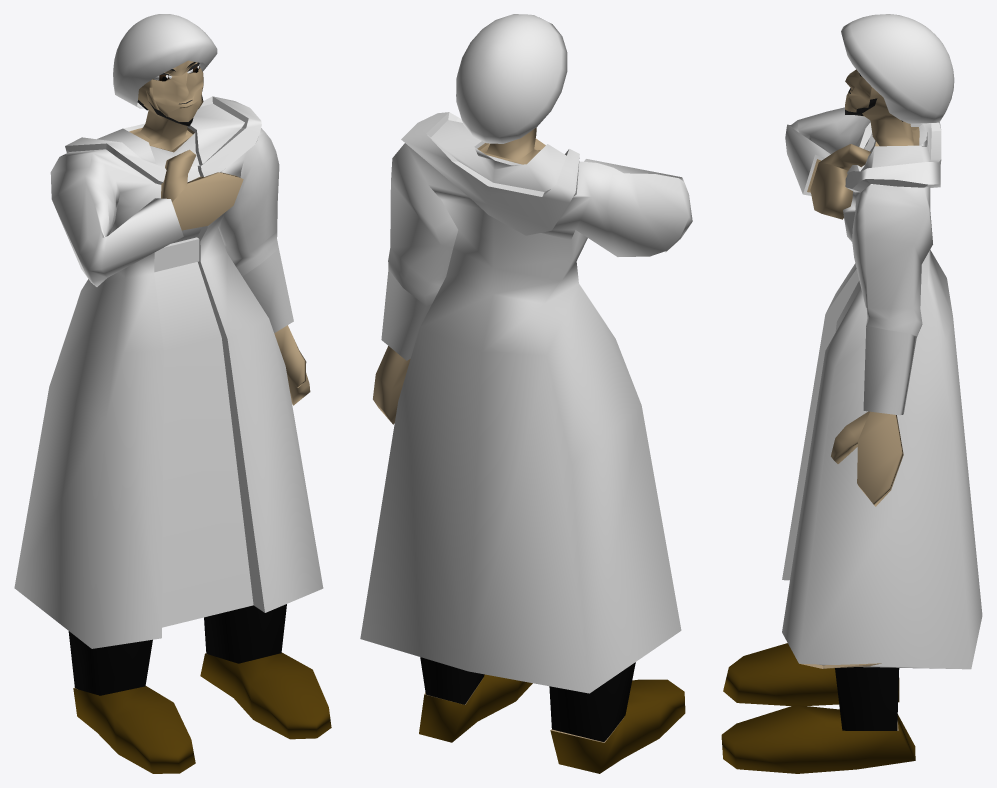
The model's file is Tuanku Lintau.fbx.
The picture shows the model from 3 angles, left to right: view 1: azimuth 30°, elevation 25°; view 2: azimuth 150°, elevation 25°; view 3: azimuth 270°, elevation 25°; orthographic projection. The views are drawn at different scales.
Visible parts, largest first — view 1: pasted__pSphere1; view 2: pasted__pSphere1; view 3: pasted__pSphere1.
Boxes of the visible parts, bbox=[...] form: pasted__pSphere1: bbox=[14, 14, 331, 773]; pasted__pSphere1: bbox=[360, 14, 692, 773]; pasted__pSphere1: bbox=[721, 14, 982, 773].
Size of the model in its own units: 4.51 by 11.22 by 3.74.
